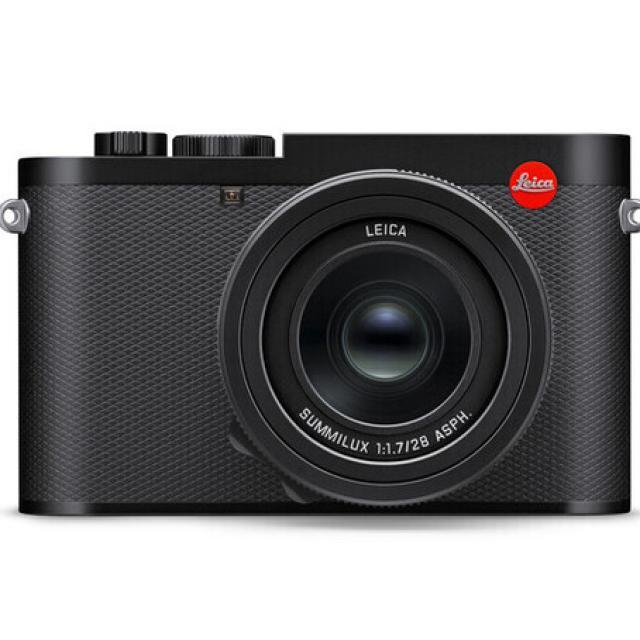hidden camera: (225, 176, 534, 510)
